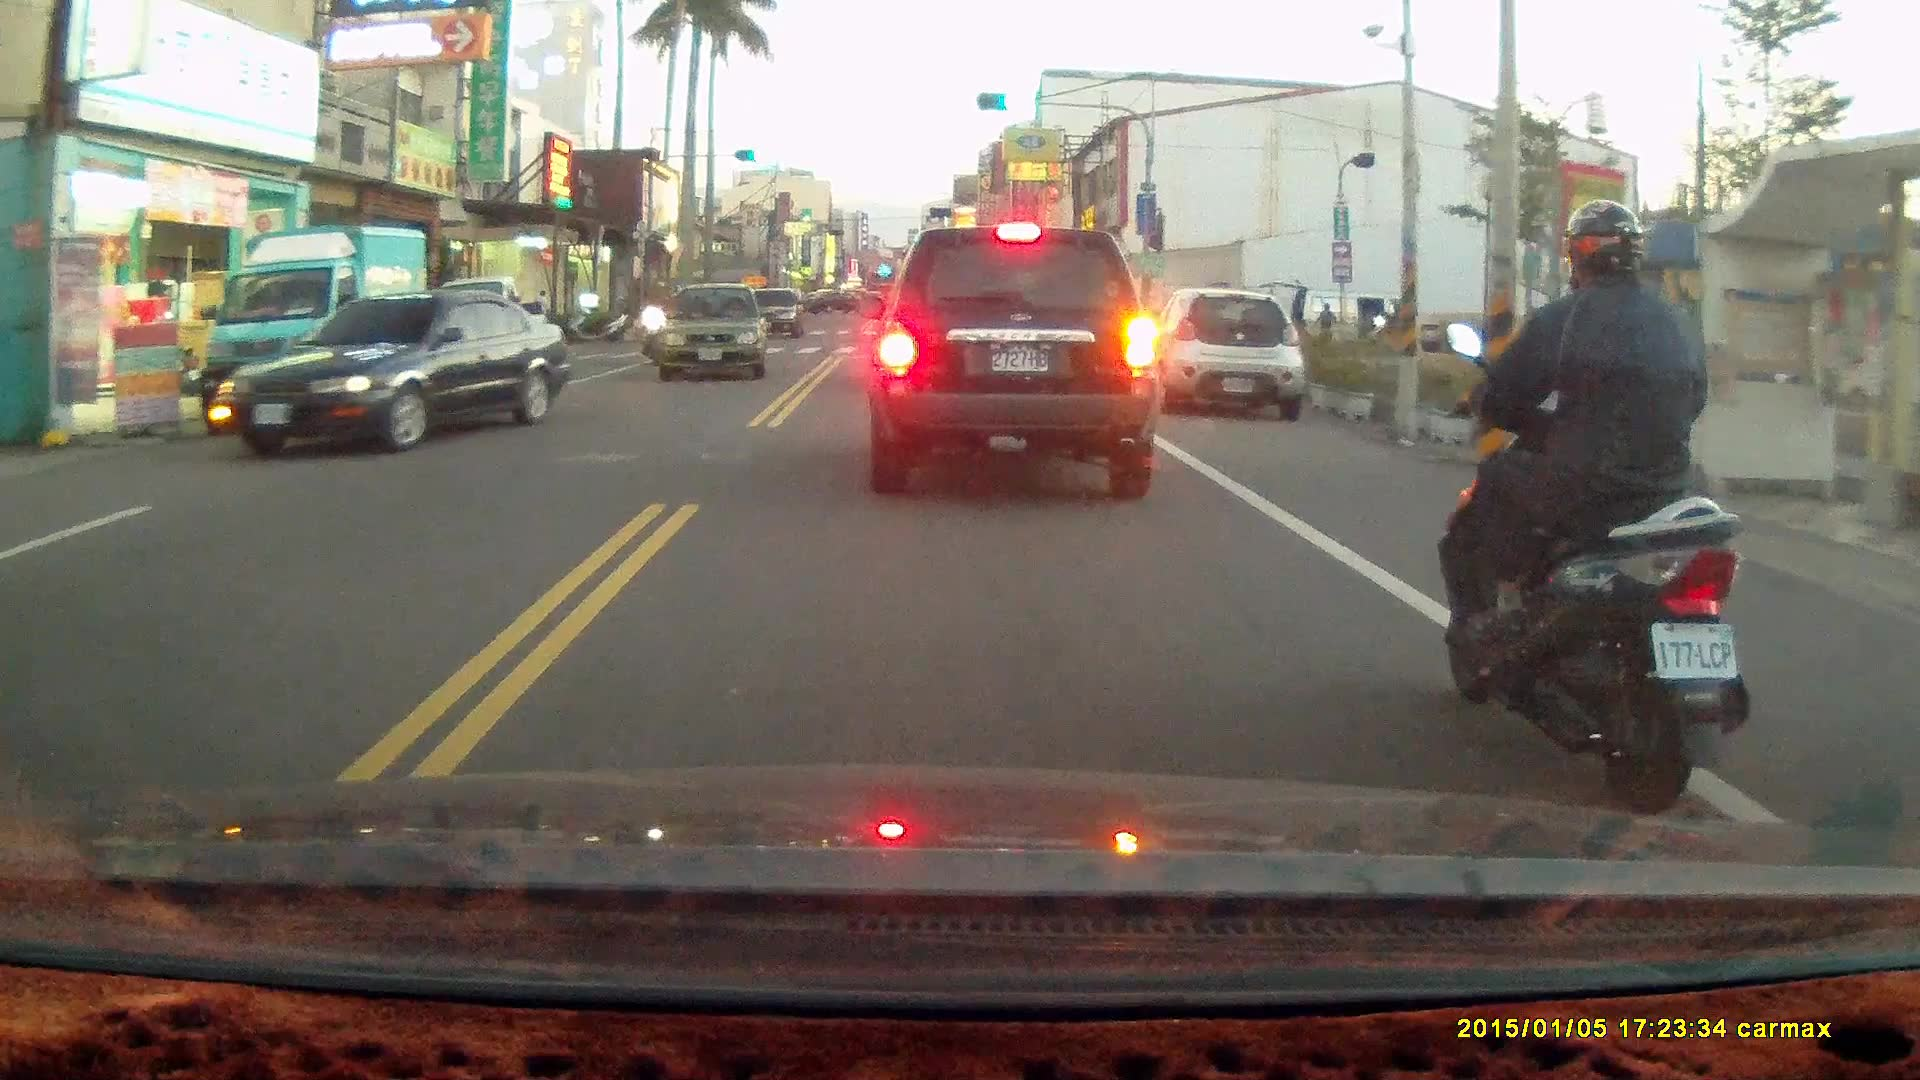rider: (1435, 198, 1750, 814), (634, 281, 677, 369)
vehicle: (865, 226, 1157, 503), (214, 291, 574, 458), (193, 228, 438, 421), (1149, 289, 1306, 426), (653, 284, 771, 385)
